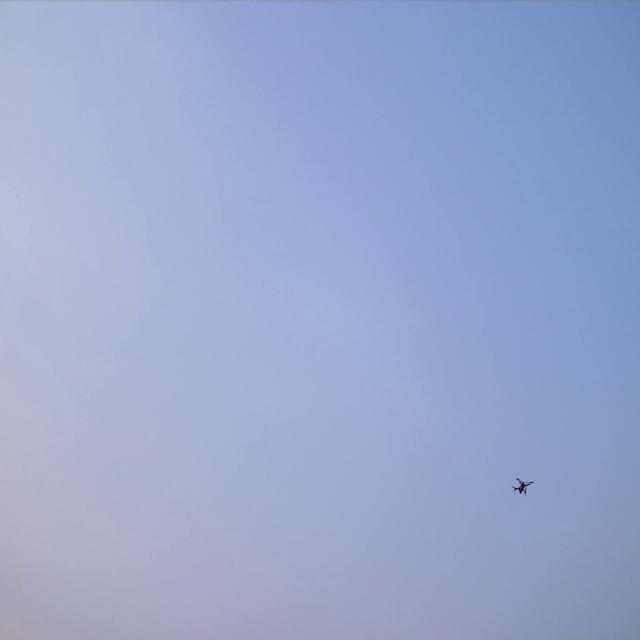UAV: (514, 479, 532, 495)
